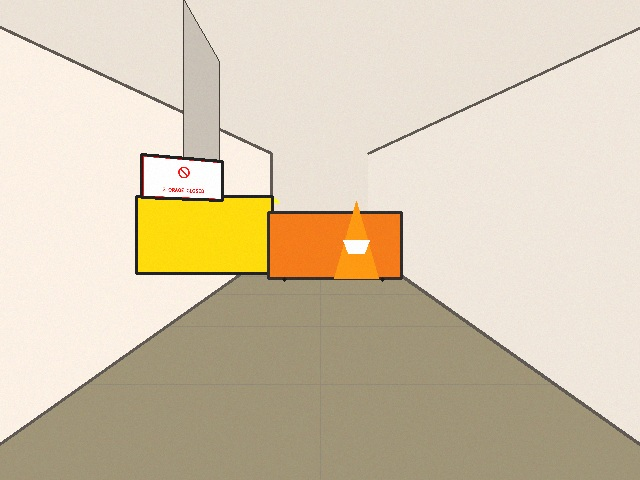cart: (268, 212, 401, 278)
directional_sign: (141, 154, 222, 200)
forklift: (136, 196, 279, 273)
obstacle: (334, 201, 378, 278)
